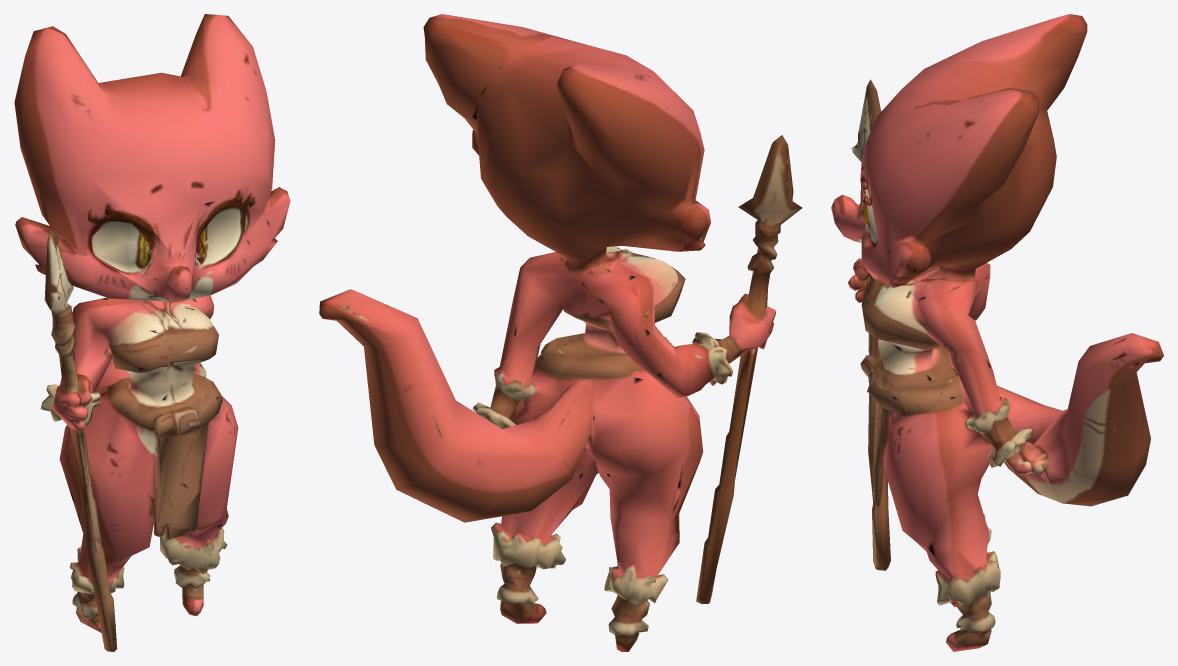
The picture shows the model from 3 angles, left to right: view 1: azimuth 30°, elevation 25°; view 2: azimuth 150°, elevation 25°; view 3: azimuth 270°, elevation 25°; orthographic projection. The views are drawn at different scales.
Visible parts, largest first — view 1: Object_01; view 2: Object_01; view 3: Object_01.
Boxes of the visible parts, x1,y1,x2,y2 form: Object_01: (14, 14, 290, 651); Object_01: (319, 14, 802, 651); Object_01: (831, 14, 1163, 651).
Bounding box in the file's own units: 0.546 × 1 × 0.5108.
1 material, 1 textured.
